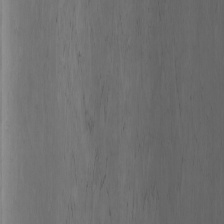silk_spot: (55, 17, 138, 212)
